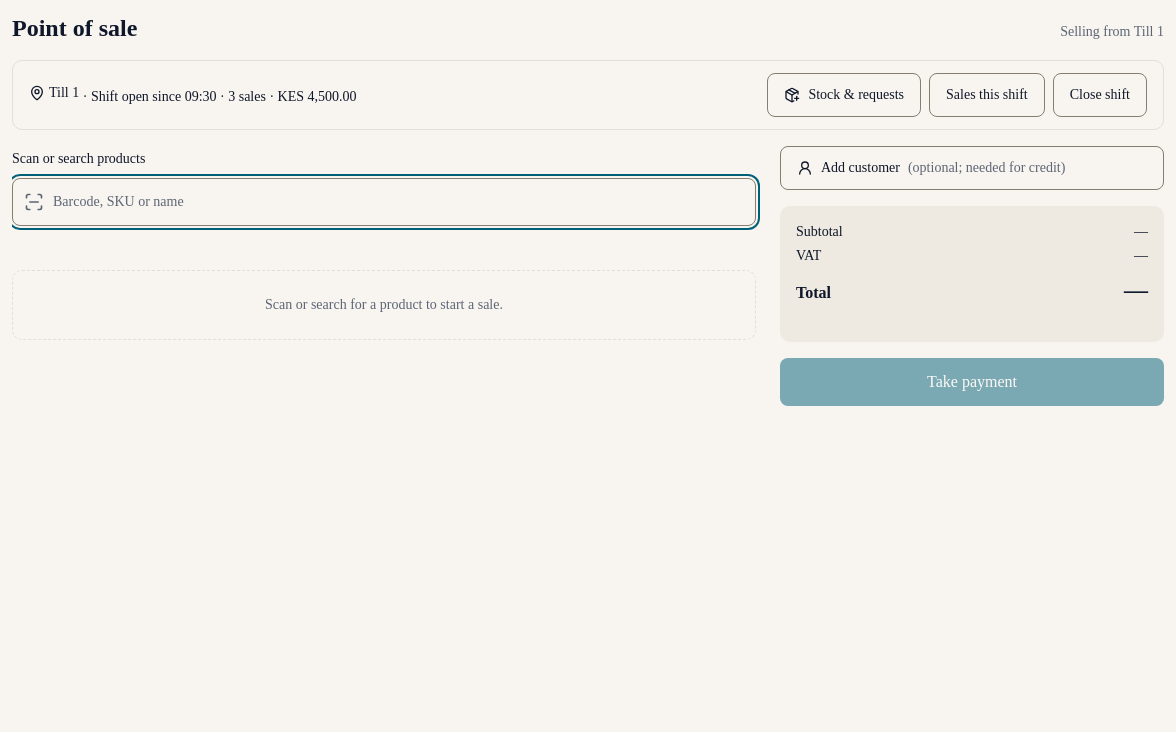
Test case: selling › steppers and a per-line discount in shillings re-price through the quote
Type "cement" into the search field labelled "Scan or search products" at coordinates (384, 202), box x1=12 y1=178 x2=756 y2=226
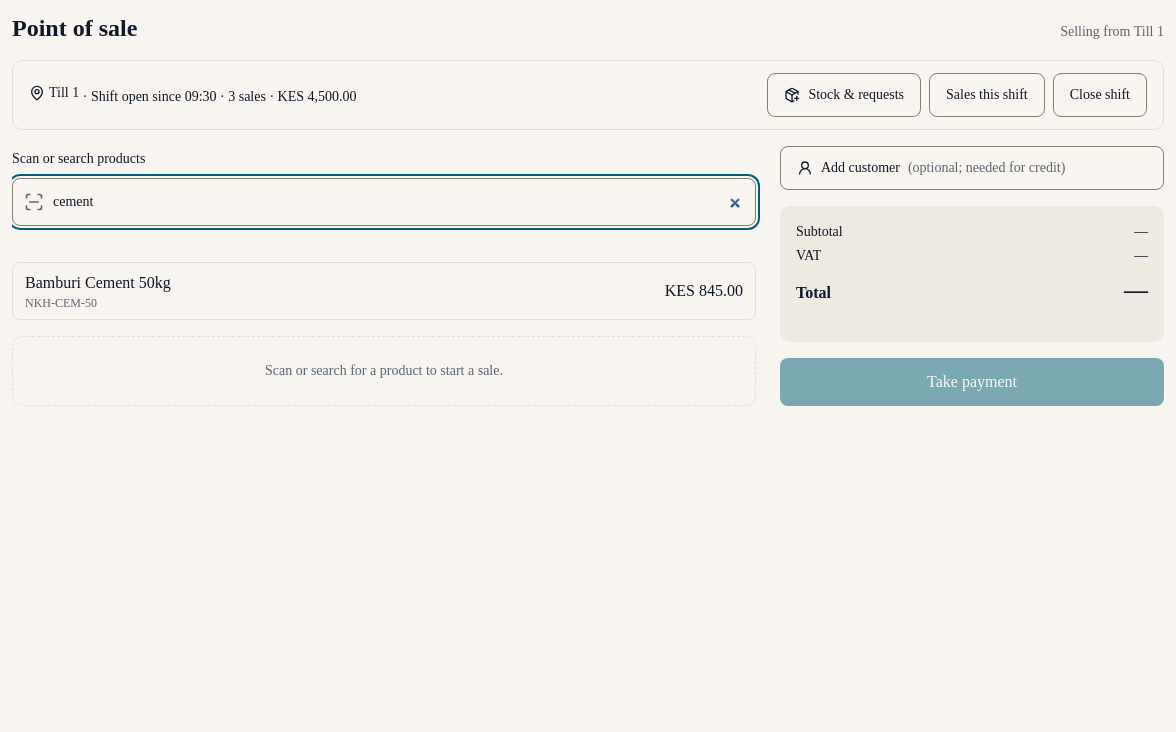
Click the button "Bamburi Cement 50kg NKH-CEM-50 KES 845.00" at coordinates (98, 282), box x1=12 y1=262 x2=756 y2=320
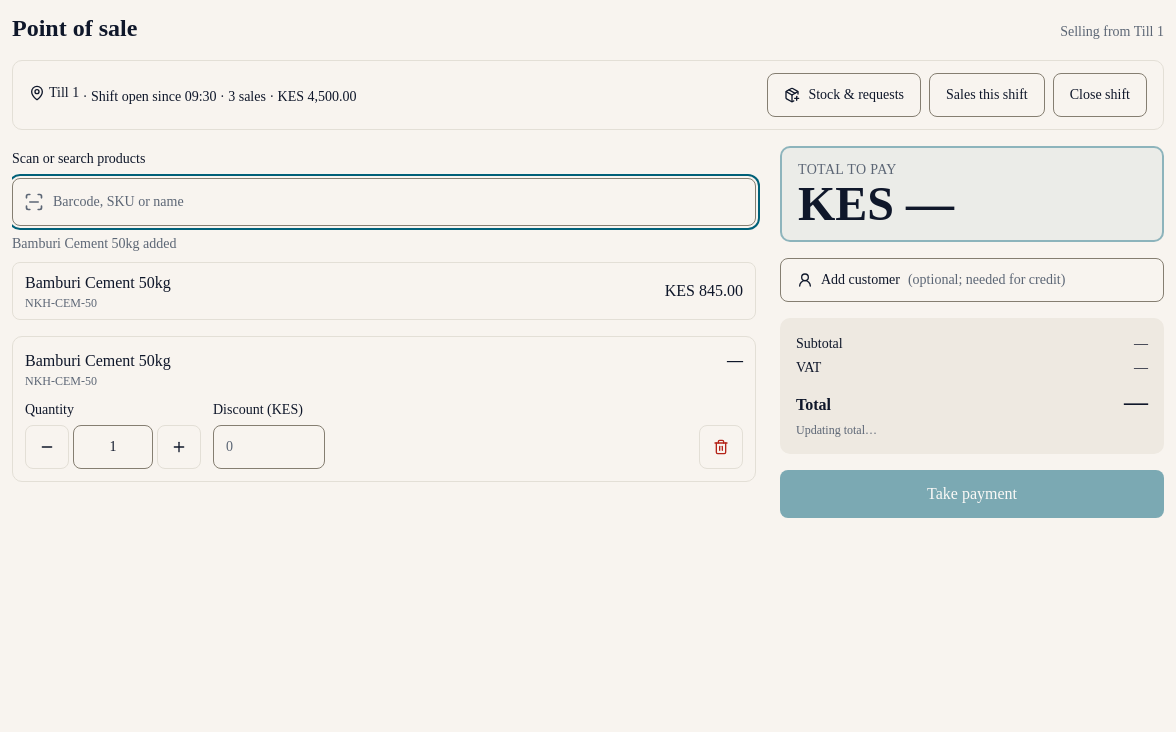
Click the button named "One more Bamburi Cement 50kg" at coordinates (179, 447), box x1=157 y1=425 x2=201 y2=469
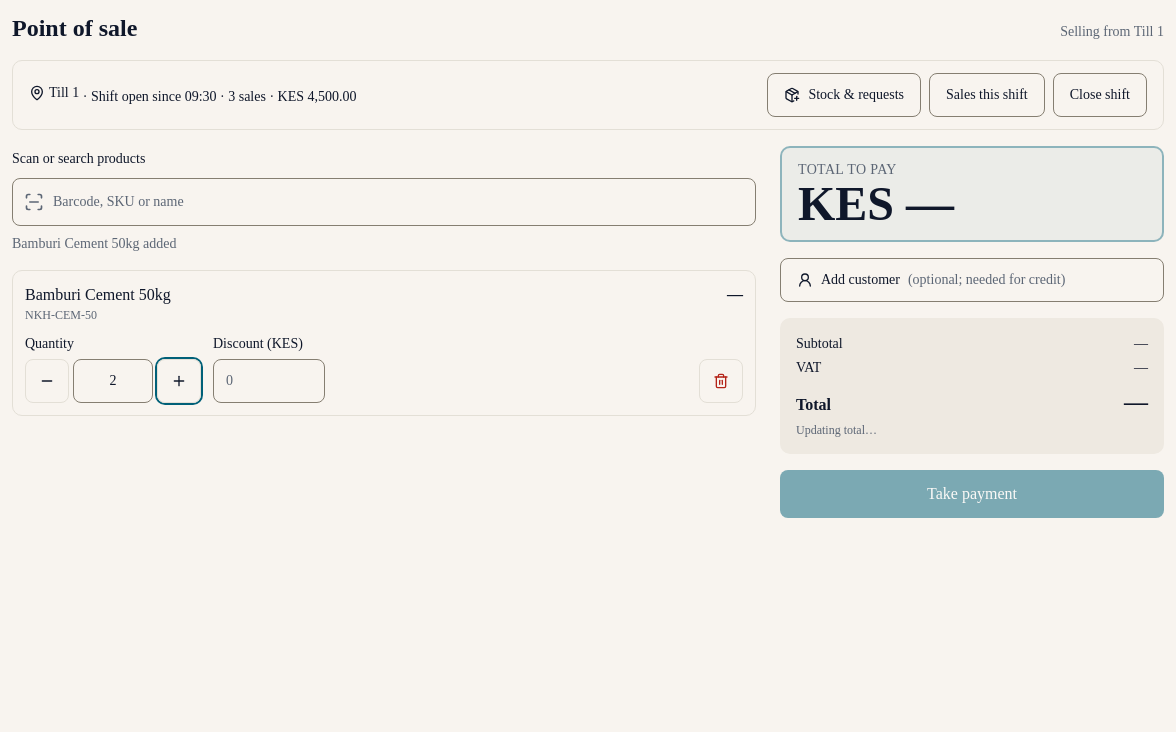
Type "50" into the field labelled "Discount (KES)" at coordinates (269, 381), box x1=213 y1=359 x2=325 y2=403
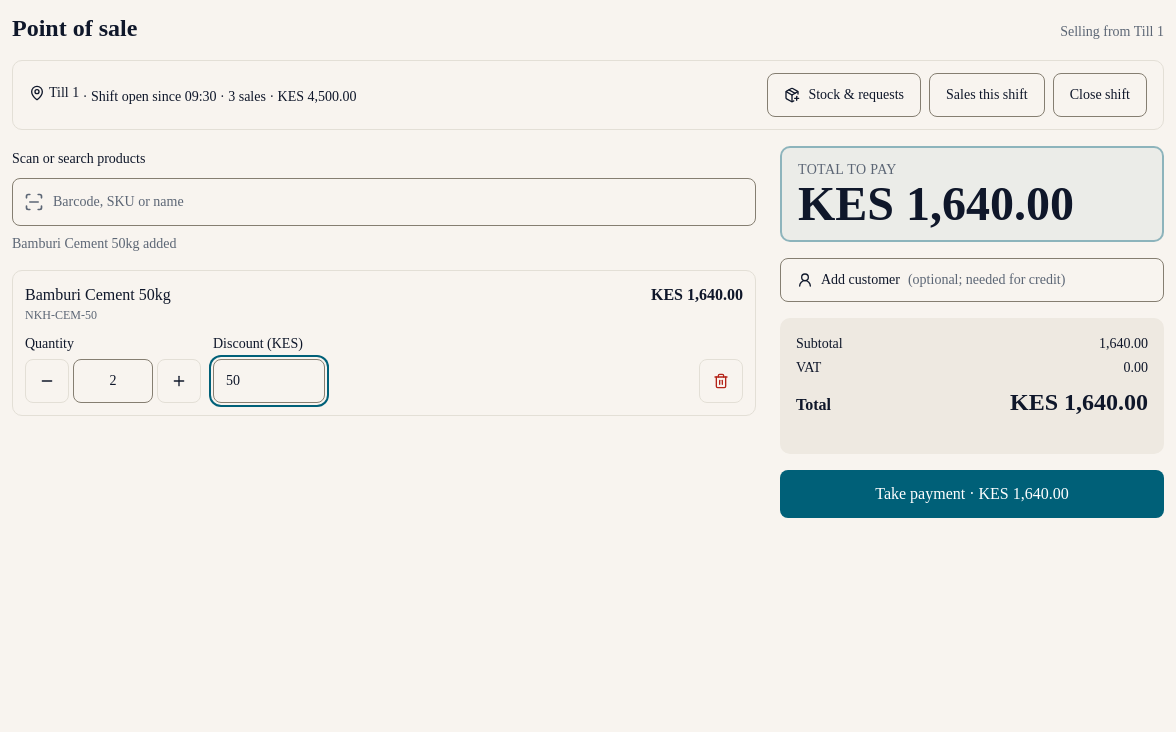
Expected: the text "KES 1,640.00" below "VAT" is shown, x1=1010 y1=389 x2=1148 y2=415
